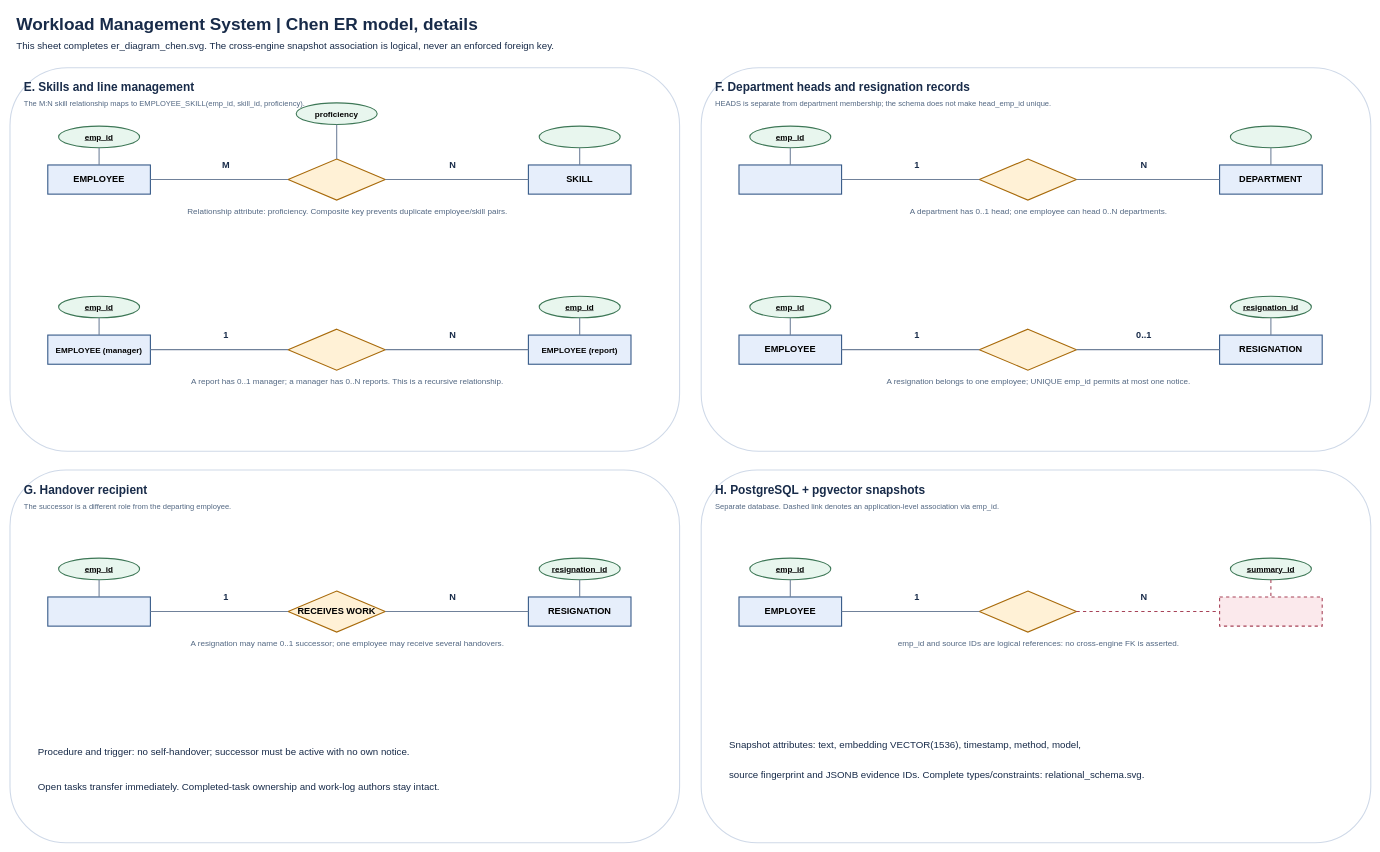
Image size: 1380x852. Some labels were removed from this diagram. The centre of each missing label's shape, as x and y in pixels:
"ai_work_summaries" goes at (x=1270, y=611).
"dept_id" goes at (x=1271, y=136).
"EMPLOYEE (head)" goes at (x=790, y=179).
"EMPLOYEE (successor)" goes at (x=99, y=611).
"FILES" goes at (x=1027, y=349).
"HAS SKILL" goes at (x=336, y=179).
"HAS SNAPSHOT" goes at (x=1027, y=611).
"HEADS" goes at (x=1027, y=179).
"MANAGES" goes at (x=336, y=349).
"skill_id" goes at (x=579, y=136).
